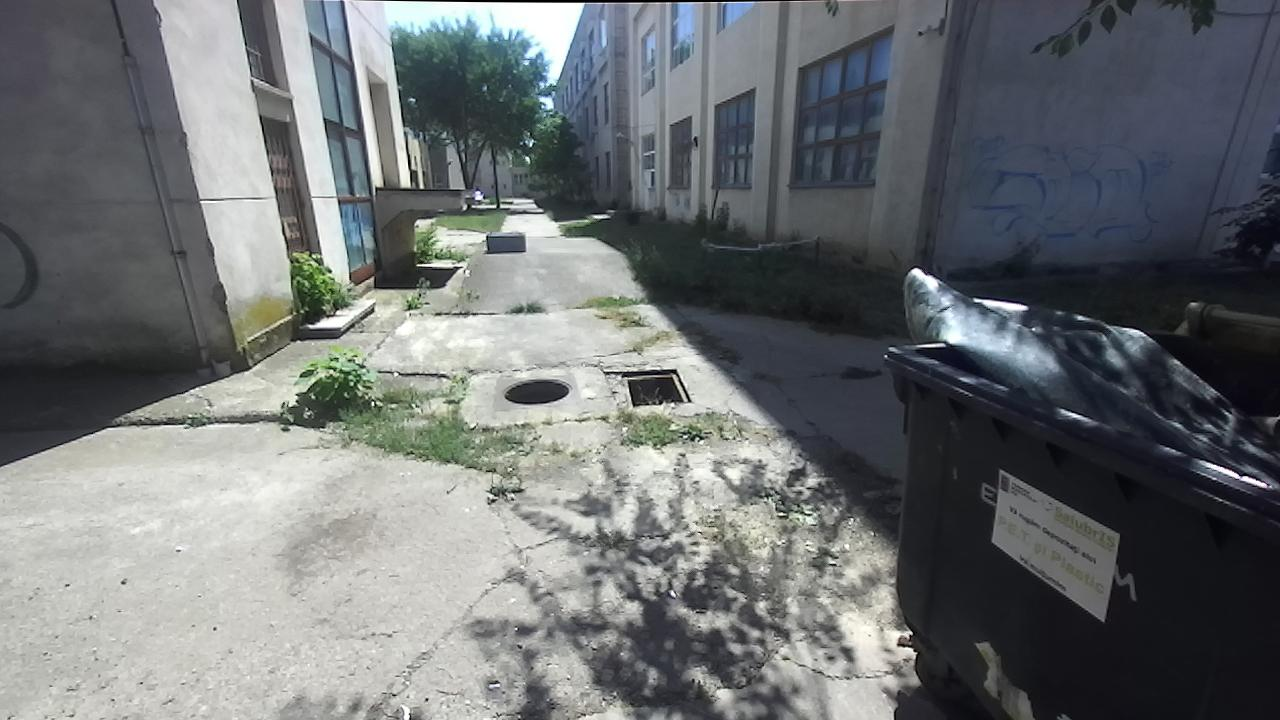drain: (614, 366, 695, 409), (495, 371, 580, 409)
